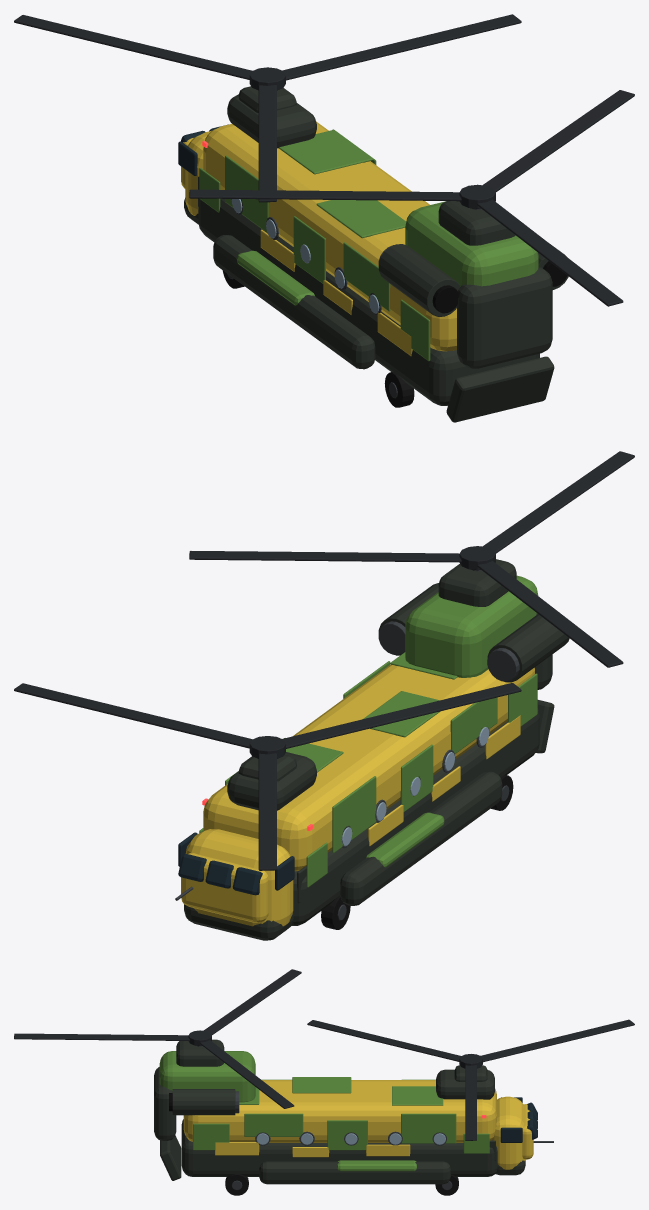
The model's file is chinook.glb.
3 views of the same model, one above another, from view 1: azimuth 30°, elevation 25°; view 2: azimuth 150°, elevation 25°; view 3: azimuth 270°, elevation 25° (orthographic). The views are drawn at different scales.
Visible parts, largest first — view 1: Chinook, RotorRear, RotorFront; view 2: Chinook, RotorRear, RotorFront; view 3: Chinook, RotorRear, RotorFront.
Boxes of the visible parts, x1,y1,x2,y2 form: Chinook: (178,86,568,422); RotorRear: (189,90,634,306); RotorFront: (14,14,521,202); Chinook: (175,559,569,940); RotorRear: (189,451,634,667); RotorFront: (14,683,521,870); Chinook: (154,1039,553,1195); RotorRear: (14,969,301,1108); RotorFront: (307,1019,634,1140).
Bounding box in the file's own units: 9.44 × 4.29 × 16.85.
